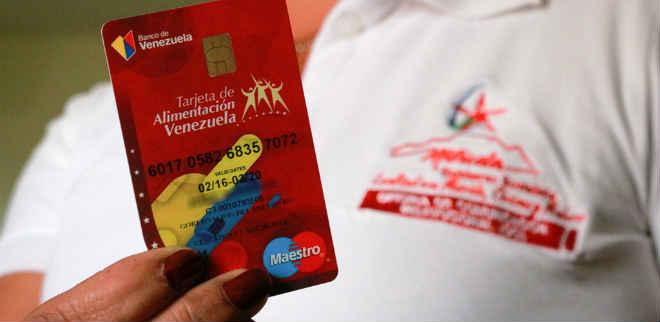tarjeta: (100, 1, 337, 297)
